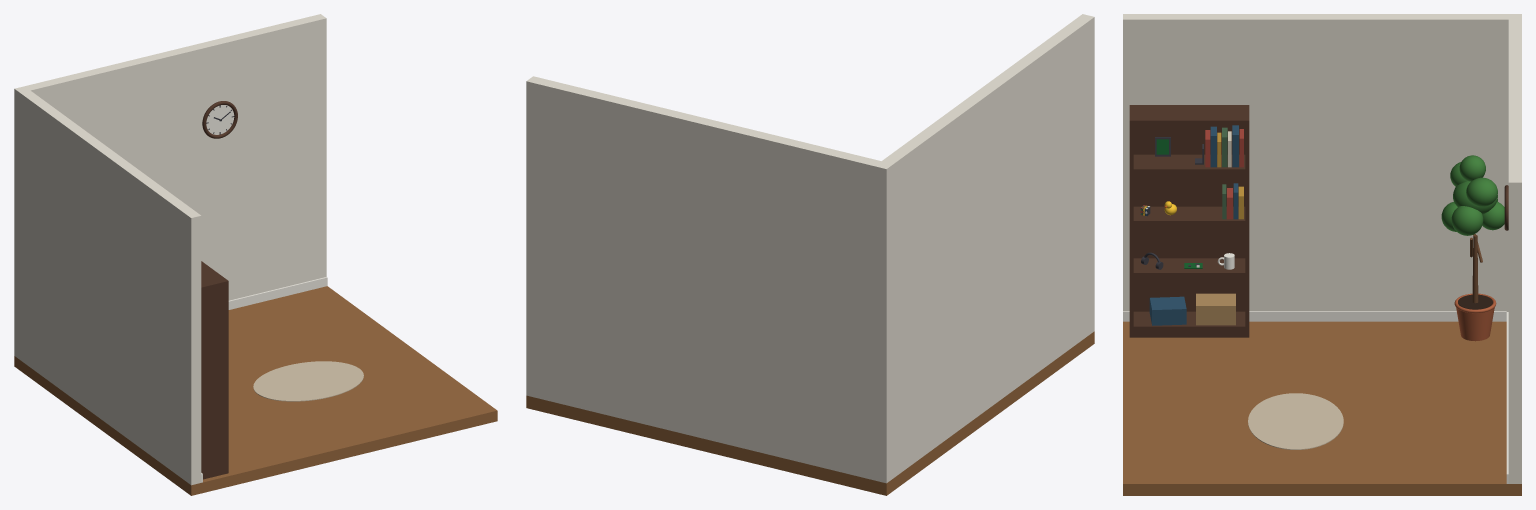
File: habitacion-programador2.glb
3 views of the same model, side by side, from view 1: azimuth 30°, elevation 25°; view 2: azimuth 150°, elevation 25°; view 3: azimuth 270°, elevation 25° (orthographic). The views are drawn at different scales.
Parts seen in each view (by area): view 1: pared_izquierda, pared_fondo, suelo, estanteria, alfombra, rodapie_fondo, reloj_cara; view 2: pared_fondo, pared_izquierda, suelo; view 3: pared_izquierda, suelo, estanteria_trasera, estanteria, pared_fondo, alfombra, planta, rodapie_izquierdo, estanteria_techo, estanteria_base, caja_1, caja_2 (+2 smaller).
Boxes of the visible parts, left/top/right/bottom form: pared_izquierda: left=14, top=86, right=201, bottom=485; pared_fondo: left=25, top=14, right=326, bottom=300; suelo: left=14, top=286, right=497, bottom=495; estanteria: left=201, top=280, right=228, bottom=479; alfombra: left=253, top=361, right=363, bottom=401; rodapie_fondo: left=228, top=277, right=327, bottom=309; reloj_cara: left=206, top=105, right=234, bottom=134; pared_fondo: left=526, top=76, right=880, bottom=480; pared_izquierda: left=874, top=14, right=1094, bottom=483; suelo: left=526, top=331, right=1094, bottom=495; pared_izquierda: left=1123, top=14, right=1521, bottom=311; suelo: left=1123, top=321, right=1521, bottom=495; estanteria_trasera: left=1130, top=105, right=1249, bottom=311; estanteria: left=1129, top=105, right=1249, bottom=337; pared_fondo: left=1508, top=19, right=1521, bottom=483; alfombra: left=1248, top=393, right=1343, bottom=449; planta: left=1441, top=155, right=1504, bottom=262; rodapie_izquierdo: left=1123, top=311, right=1506, bottom=321; estanteria_techo: left=1129, top=105, right=1248, bottom=124; estanteria_base: left=1133, top=311, right=1245, bottom=337; caja_1: left=1196, top=293, right=1235, bottom=325; caja_2: left=1149, top=296, right=1186, bottom=325.
Bounding box in the file's own units: 3 × 2.6 × 3.
